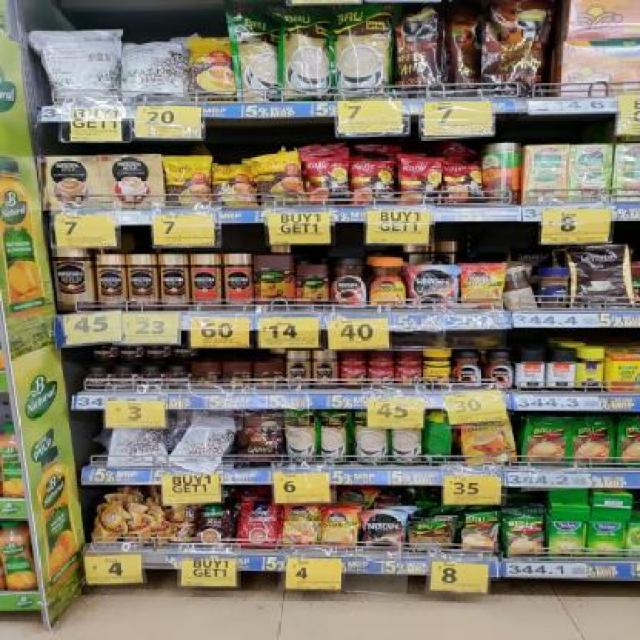Coffee: (54, 246, 92, 309), (464, 424, 516, 464), (409, 266, 456, 308), (461, 266, 502, 306), (332, 260, 366, 308), (372, 259, 405, 307), (128, 256, 157, 310), (363, 512, 403, 550), (97, 255, 125, 308), (161, 256, 187, 309), (321, 508, 357, 546), (286, 505, 319, 546), (488, 353, 514, 387), (456, 352, 481, 386), (287, 352, 310, 388), (312, 352, 336, 386), (140, 368, 162, 389), (112, 369, 134, 388), (166, 369, 189, 386), (88, 369, 108, 388), (92, 345, 113, 360), (119, 346, 141, 360), (146, 346, 168, 360), (172, 347, 195, 359)
